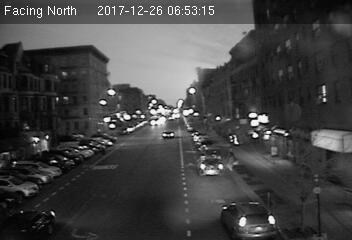car: (221, 200, 279, 238), (198, 158, 224, 176), (160, 129, 177, 139)
